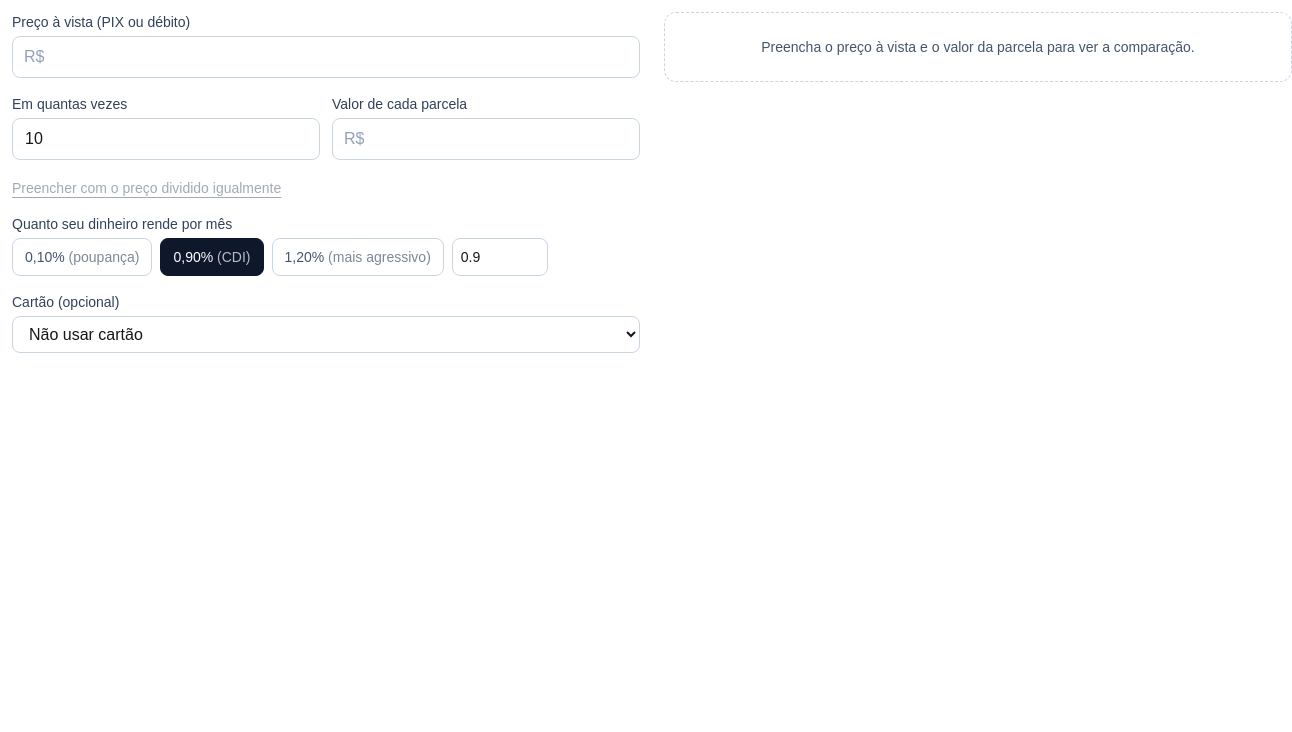
Test: SimulatorForm — carencia deduzida do cartao › comprar depois do fechamento estica o prazo ate a primeira parcela
Step 1. Select "Nubank roxinho" in the dropdown labelled "Cartão (opcional)" → (326, 334), box [12,316,640,353]
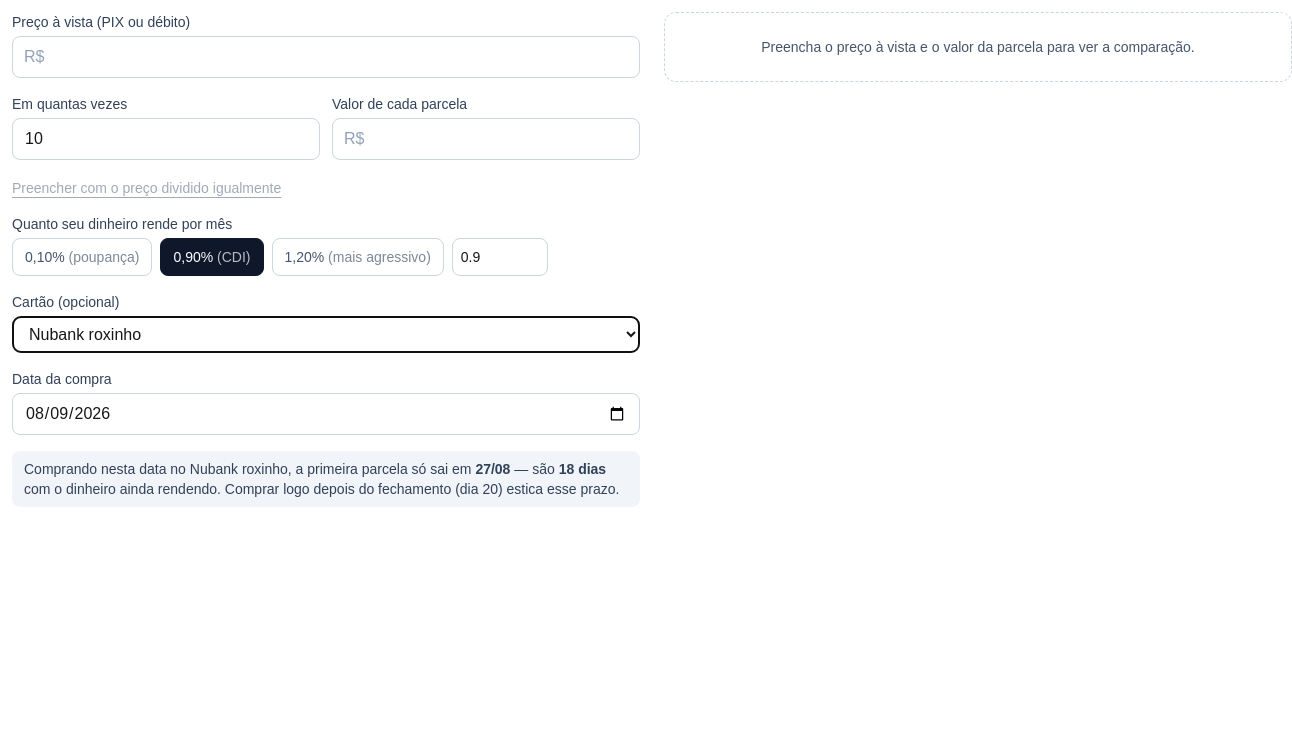
Step 2. Type "2026-08-21" into the date field labelled "Data da compra" → (326, 414), box [12,393,640,435]
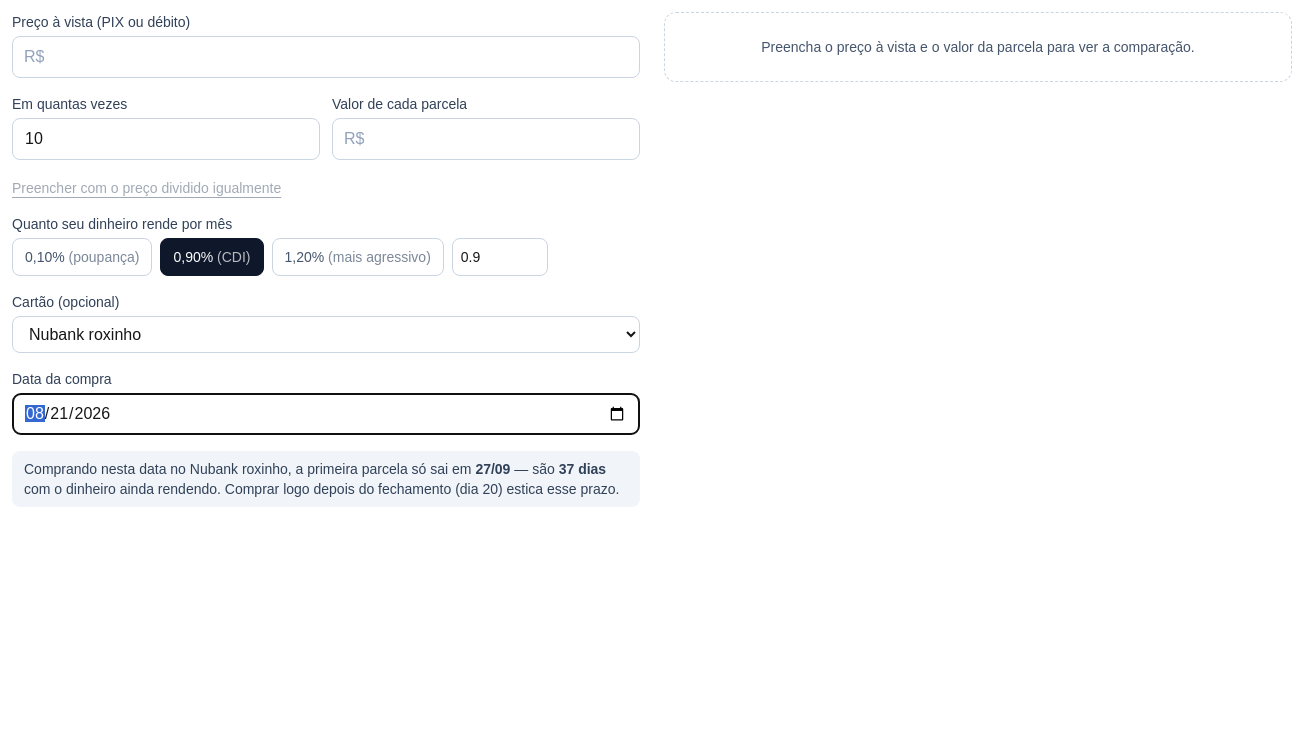
Expected: the text "27/09" is shown, [475,461,510,477]
Expected: the text "37 dias" is shown, [559,461,606,477]
